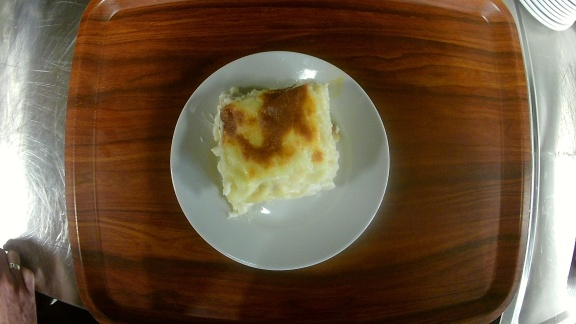firinmakarna: (167, 49, 395, 271)
